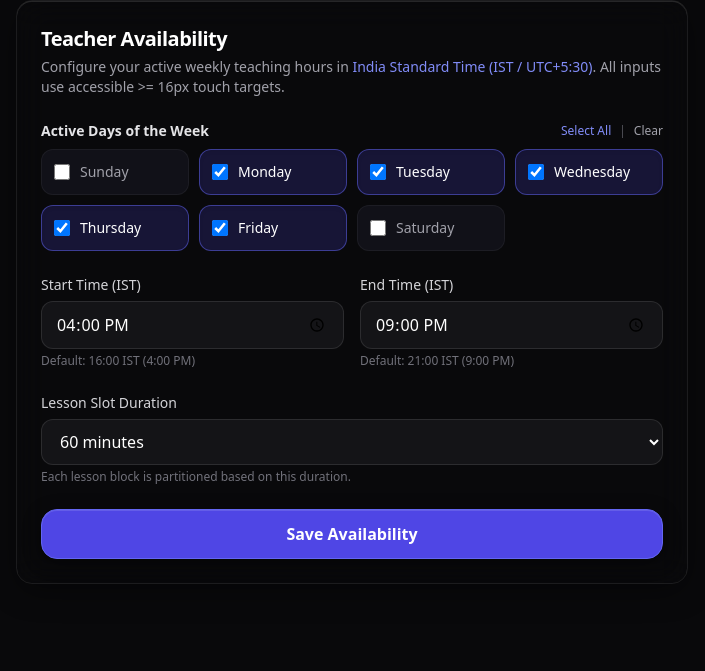
Test case: TeacherAvailabilityForm Component › allows toggling days and submits structured TeacherAvailability data
// Clear all days
Click the button "Clear" at (648, 131), box [634,123,663,139]
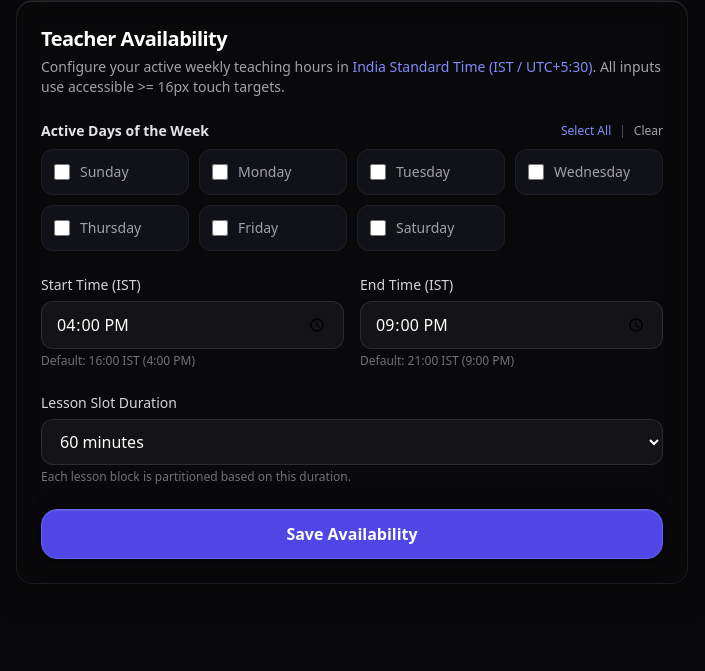
// Check Sunday (0) and Saturday (6)
Click the checkbox labelled "Sunday" at (62, 172), box [54,164,70,180]
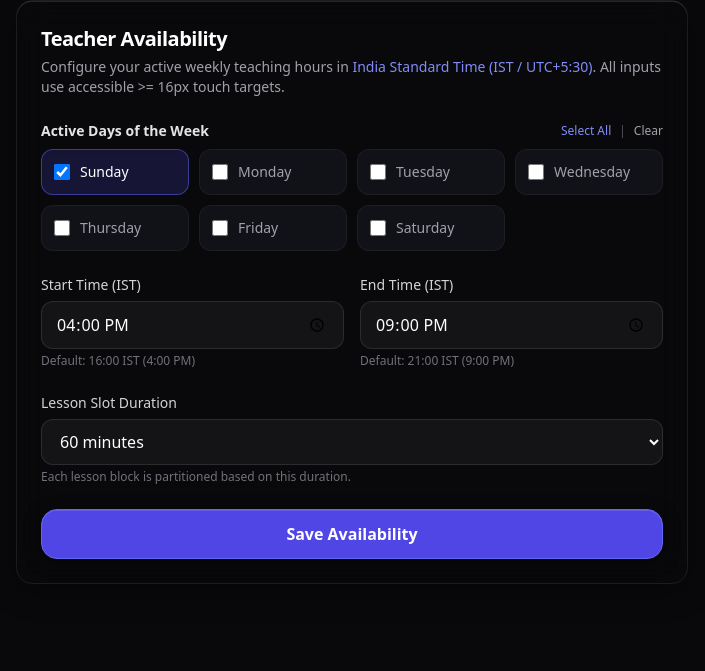
Click the checkbox labelled "Saturday" at (378, 228), box [370,220,386,236]
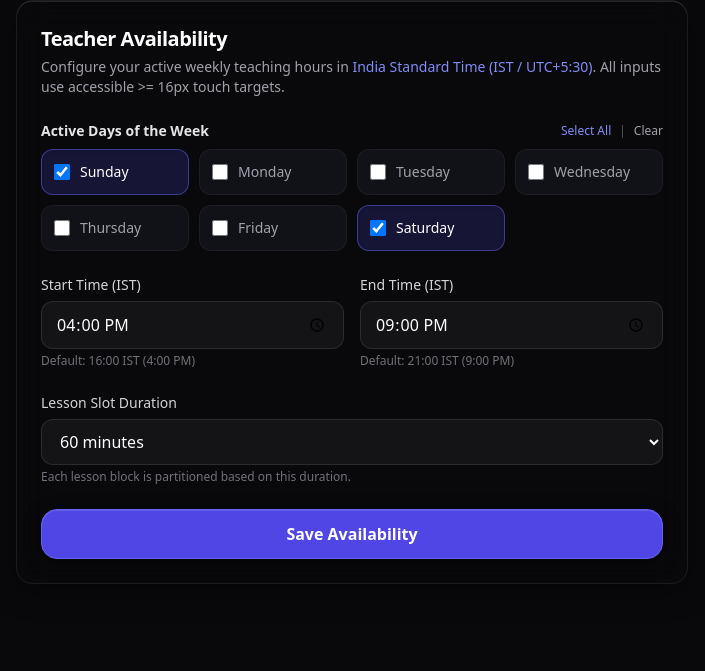
// Change start time and end time
Replace the text in the time field labelled "Start Time (IST)" with "18:00" at (192, 325), box [41,301,344,349]
Replace the text in the time field labelled "End Time (IST)" with "22:00" at (512, 325), box [360,301,663,349]
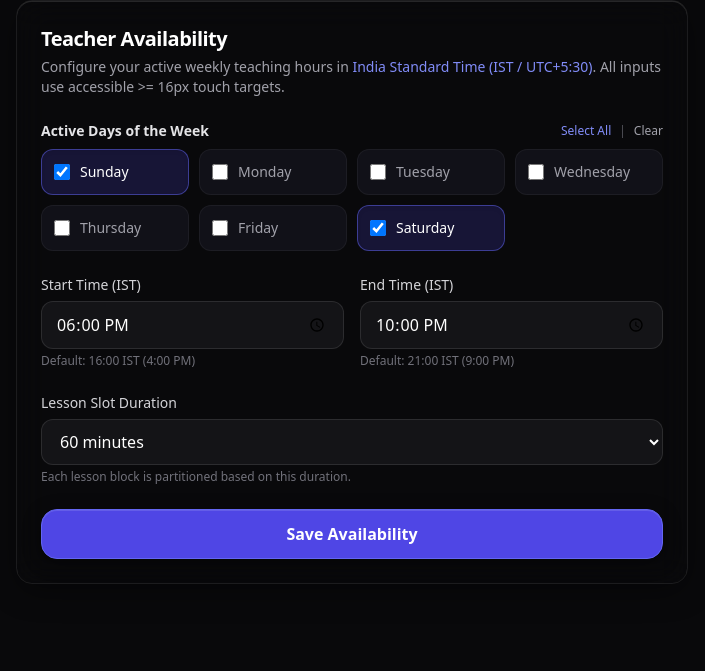
// Change slot duration to 45 mins
Select "45 minutes" in the dropdown labelled "Lesson Slot Duration" at (352, 442), box [41,419,663,465]
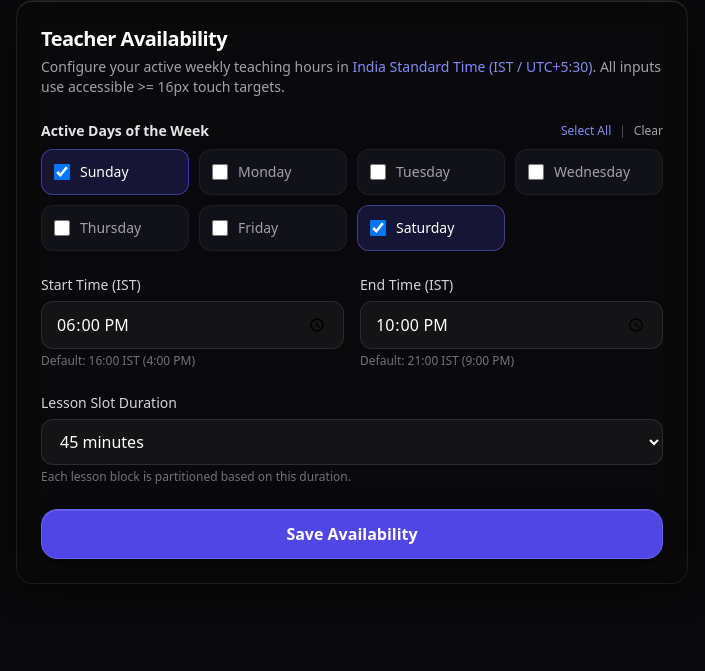
// Submit form
Click the button "Save Availability" at (352, 534), box [41,509,663,559]
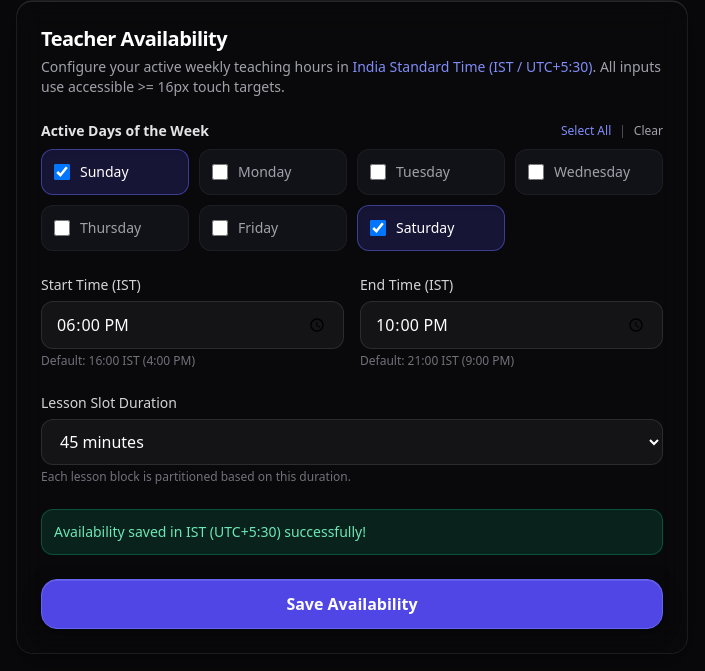
expect the text "Availability saved in IST (UTC+5:30) successfully!" is shown: met, box [41,509,663,555]
